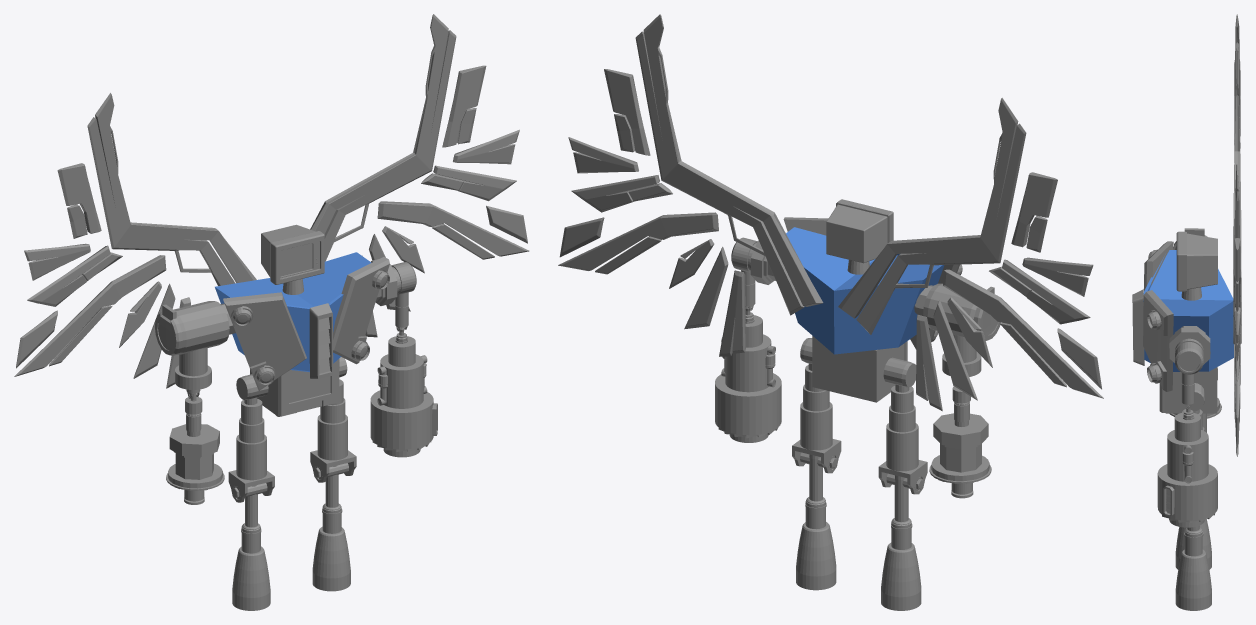
Rendered from robot_FBX.FBX.
3 renders of one model, left to right at view 1: azimuth 30°, elevation 25°; view 2: azimuth 150°, elevation 25°; view 3: azimuth 270°, elevation 25°, orthographic. The views are drawn at different scales.
Visible parts, largest first — view 1: Wings, Group48672, Head_and_Neck, Torso, Group33311, Group35954, Group50545, Group20653, Group693, Group39404, Group23568, Group35849 (+10 smaller); view 2: Wings, Torso, Group50517, Head_and_Neck, Group35954, Group693, Group39404, Group23568, Group35849, Group10836, Group60536, Group20653 (+5 smaller); view 3: Torso, Wings, Head_and_Neck, Group35954, Group33311, Group39404, Group35849, Group50517, Group18, Group16704, Group65491, Group3811 (+11 smaller).
Part boxes in pixels (x1,y1,x2,y2): Wings: (14,14,529,388); Group48672: (223,292,306,390); Head_and_Neck: (261,224,324,294); Torso: (215,252,371,372); Group33311: (333,257,389,364); Group35954: (370,390,433,449); Group50545: (275,359,339,416); Group20653: (174,301,229,354); Group693: (169,424,219,479); Group39404: (312,526,350,591); Group23568: (232,546,270,610); Group35849: (380,354,423,408); Wings: (558,14,1103,411); Torso: (786,227,944,354); Group50517: (812,336,904,402); Head_and_Neck: (826,199,893,274); Group35954: (715,373,781,435); Group693: (933,413,988,472); Group39404: (796,522,836,590); Group23568: (881,542,921,610); Group35849: (725,334,771,392); Group10836: (800,402,832,450); Group60536: (886,423,918,471); Group20653: (923,283,976,337); Torso: (1149,250,1233,371); Wings: (1233,14,1241,456); Head_and_Neck: (1176,231,1217,300); Group35954: (1157,464,1217,520); Group33311: (1143,290,1173,391); Group39404: (1175,549,1211,610); Group35849: (1167,430,1208,481); Group50517: (1165,367,1217,413); Group18: (1175,338,1203,374); Group16704: (1132,289,1144,365); Group65491: (1169,326,1210,364); Group3811: (1174,412,1200,441).
Size of the model in its own units: 11184 by 10835 by 2158.
